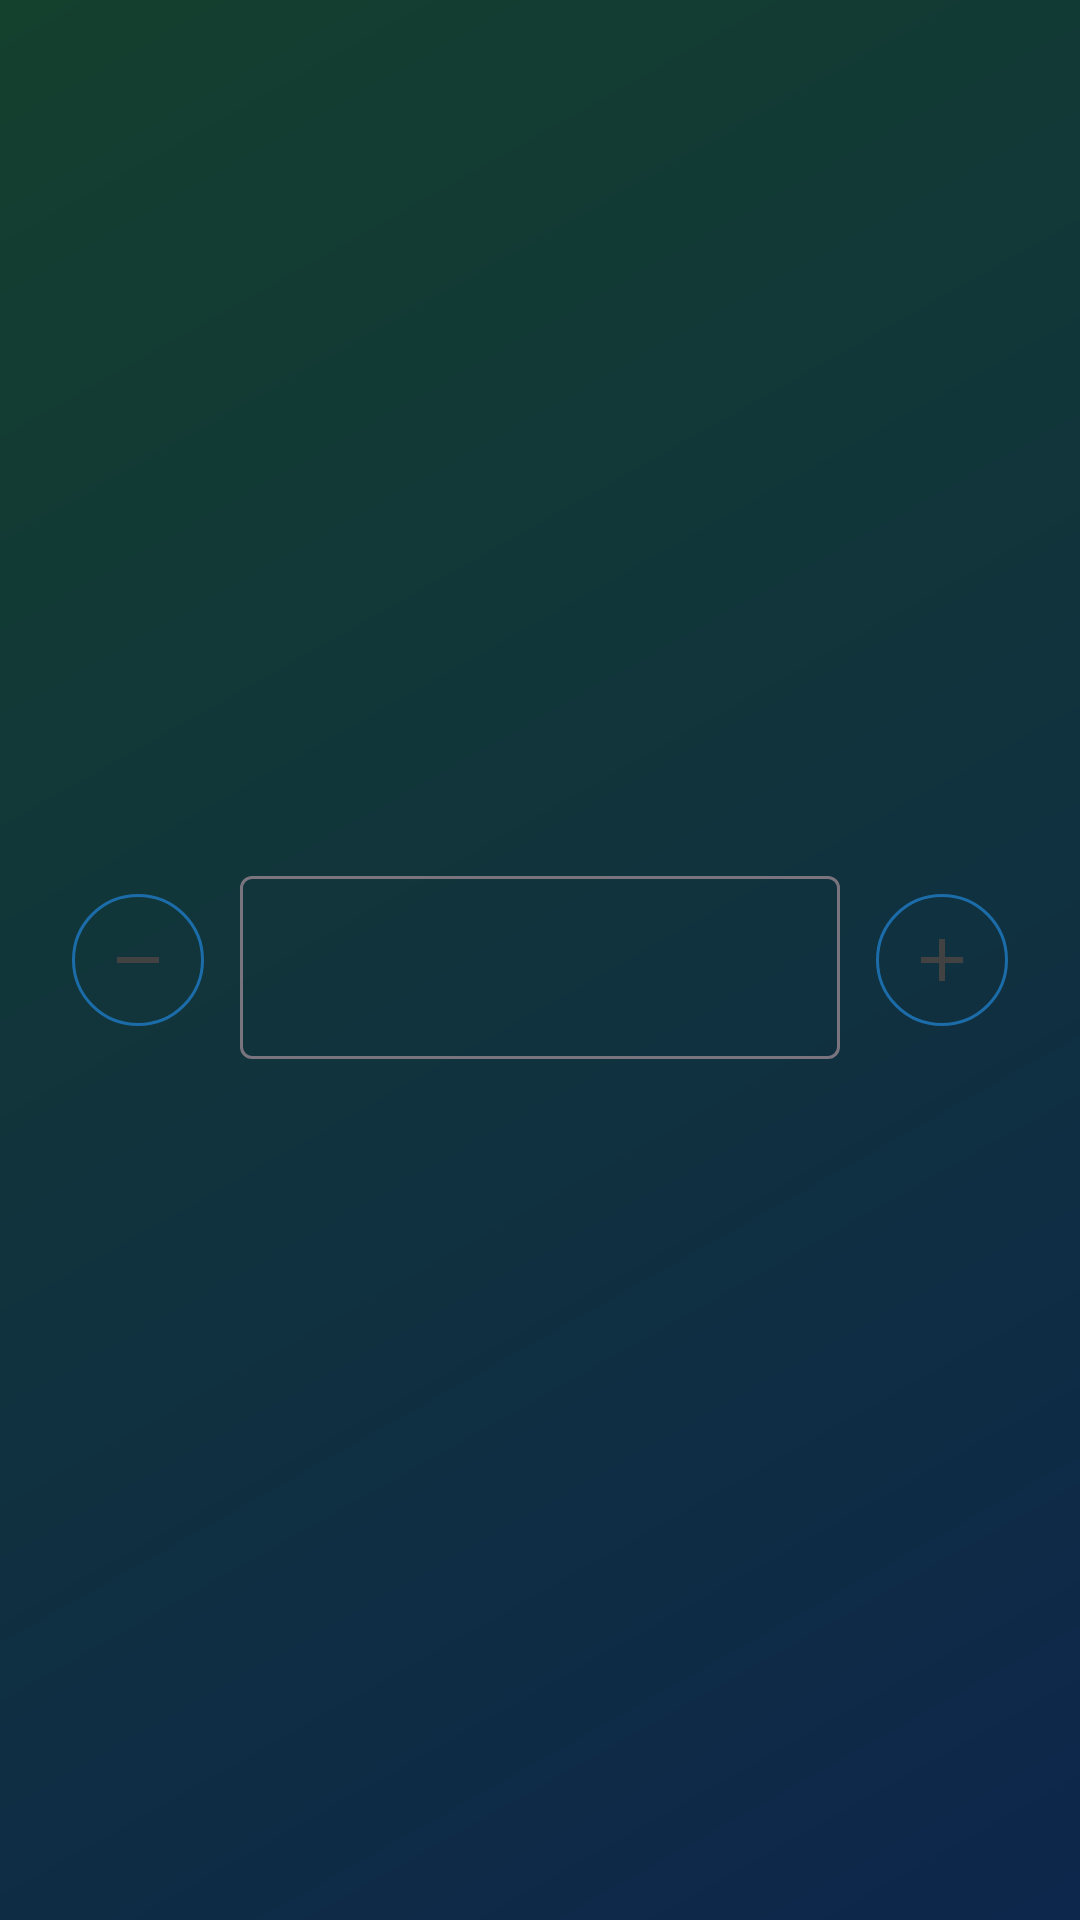

Icon bounding boxes for this 1080x1920 phone screenshot, format (x1, y1, x2, y2):
Moins: (72, 894, 204, 1026)
Plus: (876, 894, 1008, 1026)
